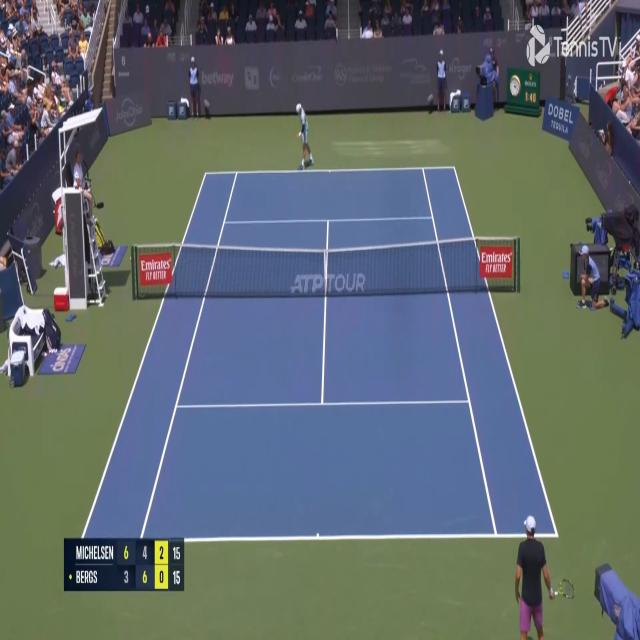tennis-player: (512, 514, 576, 639), (293, 101, 315, 172)
